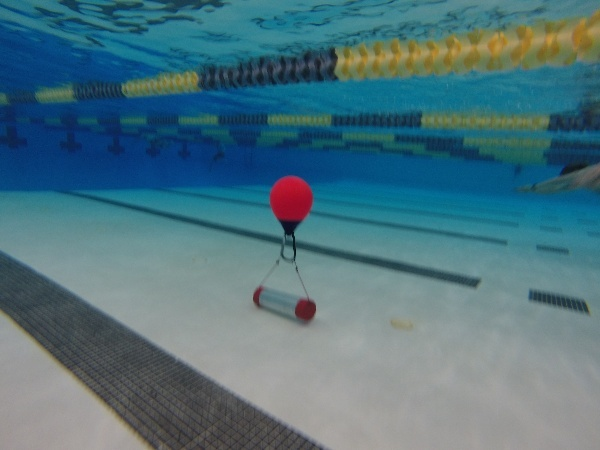buoy_red: (264, 175, 317, 236)
